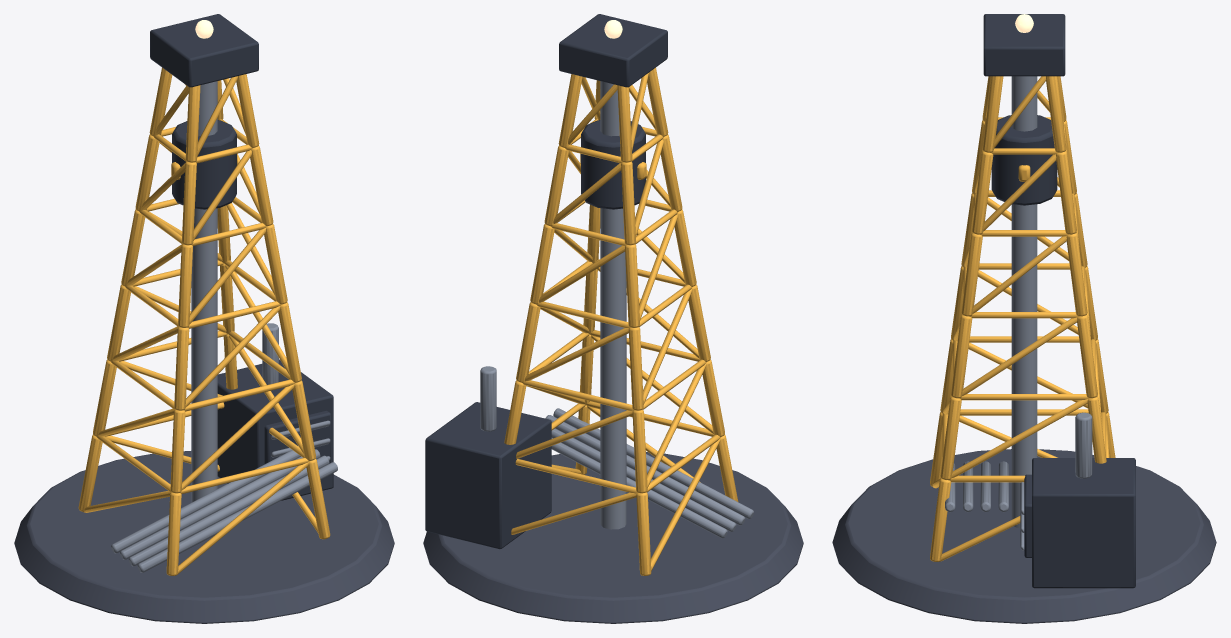
File: rig.fbx
3 renders of one model, left to right at view 1: azimuth 30°, elevation 25°; view 2: azimuth 150°, elevation 25°; view 3: azimuth 270°, elevation 25°, orthographic.
Parts seen in each view (by area): view 1: rig_Koerper, rig_Dreh; view 2: rig_Koerper, rig_Dreh; view 3: rig_Koerper, rig_Dreh.
Boxes of the visible parts, x1,y1,x2,y2 form: rig_Koerper: (14,14,394,623); rig_Dreh: (171,81,237,502); rig_Koerper: (423,14,803,623); rig_Dreh: (580,81,646,529); rig_Koerper: (832,14,1216,623); rig_Dreh: (991,76,1057,527).
Size of the model in its own units: 2.59 by 3.93 by 2.59.
